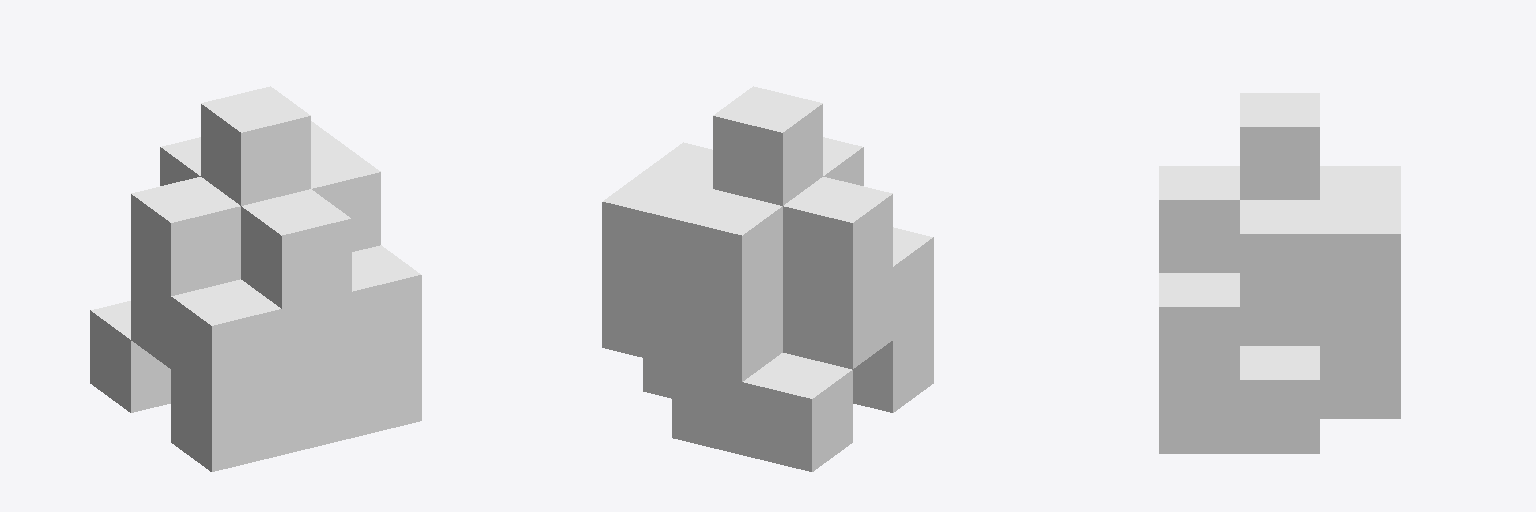
Rendered from Projectile_Tank_Passado.obj.
3 views of the same model, side by side, from view 1: azimuth 30°, elevation 25°; view 2: azimuth 150°, elevation 25°; view 3: azimuth 270°, elevation 25° (orthographic).
Visible parts, largest first — view 1: object 1; view 2: object 1; view 3: object 1.
Part boxes in pixels (x1,y1,x2,y2): object 1: (90,86,421,471); object 1: (602,86,933,471); object 1: (1159,93,1400,453).
Bounding box in the file's own units: 0.3 × 0.4 × 0.3.